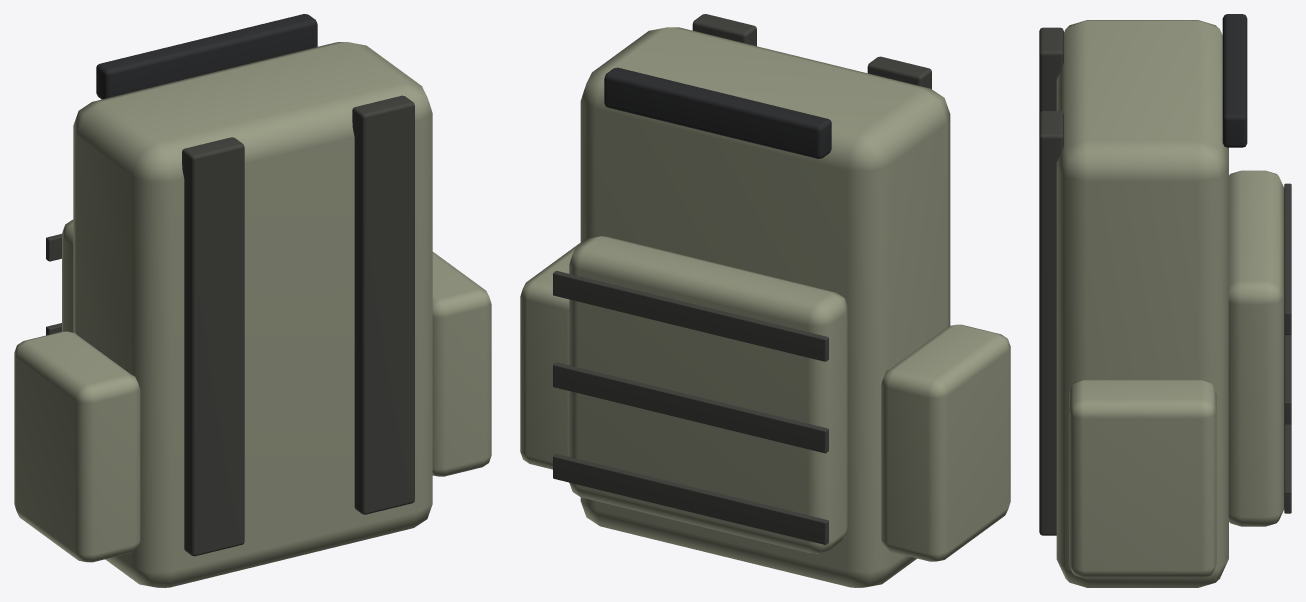
Rendered from backpack_assault_CT.glb.
3 renders of one model, left to right at view 1: azimuth 30°, elevation 25°; view 2: azimuth 150°, elevation 25°; view 3: azimuth 270°, elevation 25°, orthographic. The views are drawn at different scales.
Parts seen in each view (by area): view 1: pack@Chest; view 2: pack@Chest; view 3: pack@Chest.
Boxes of the visible parts, left/top/right/bottom form: pack@Chest: left=14, top=14, right=491, bottom=587; pack@Chest: left=520, top=14, right=1010, bottom=587; pack@Chest: left=1039, top=14, right=1291, bottom=587.
Size of the model in its own units: 0.39 by 0.415 by 0.205.
